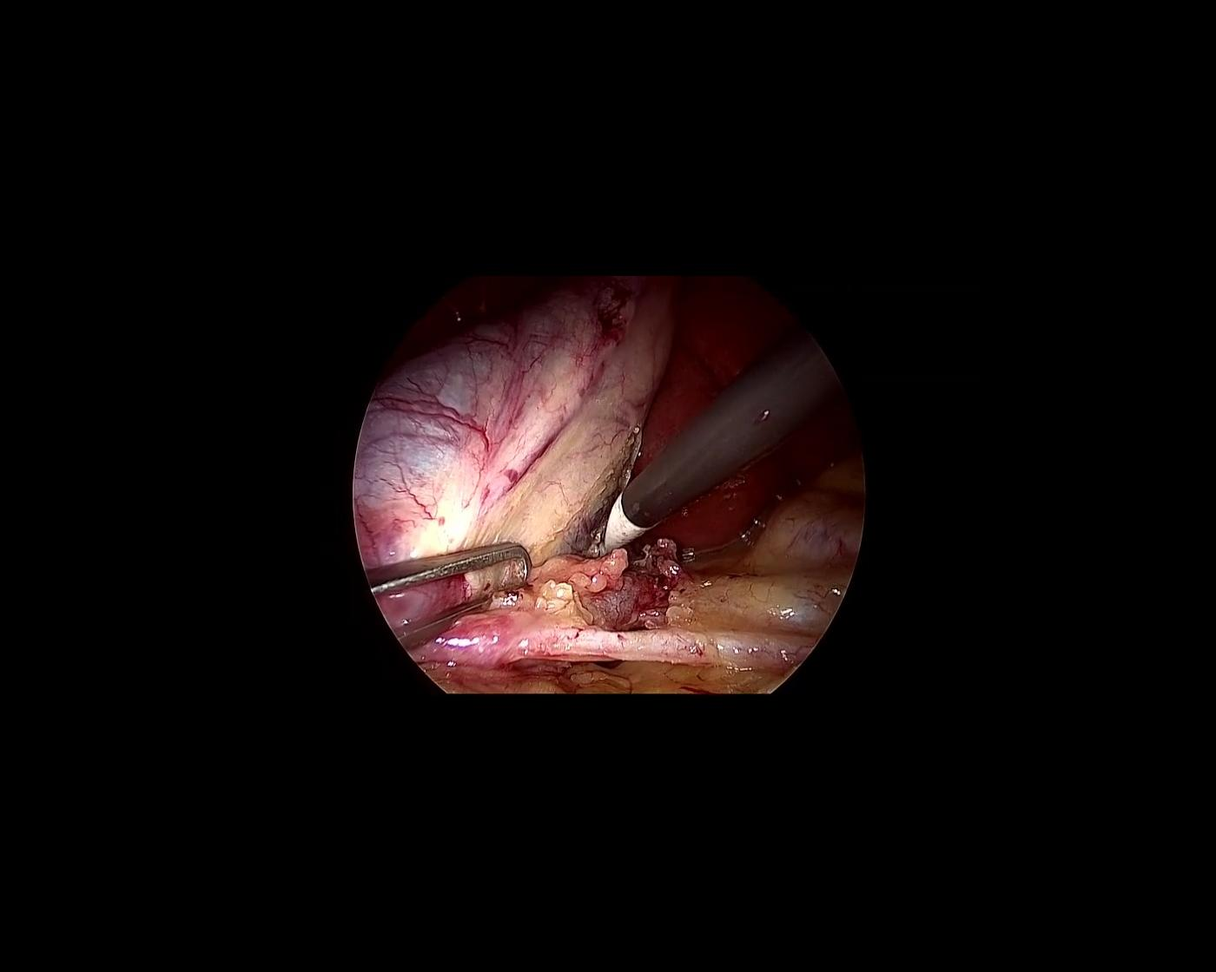Cautery: (551, 320, 852, 562)
Forceps: (360, 495, 543, 651)
Gallbladder: (298, 253, 778, 663)
